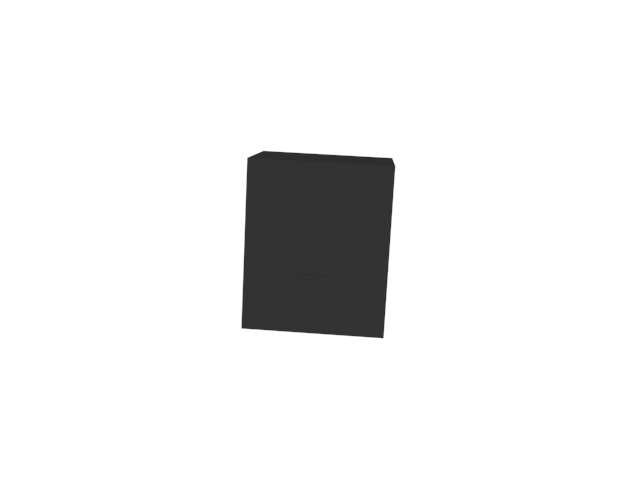file_cabinet: (241, 145, 400, 344)
